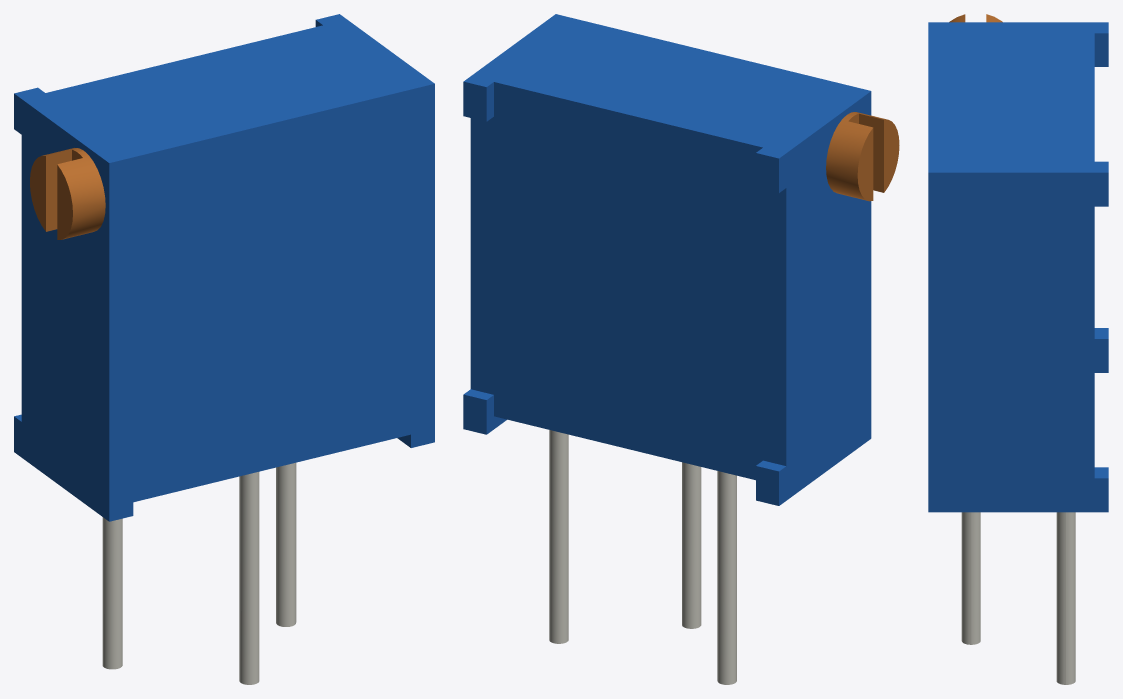
The model's file is kc-potentiometer_bourns_3296z_horizontal.glb.
3 views of the same model, side by side, from view 1: azimuth 30°, elevation 25°; view 2: azimuth 150°, elevation 25°; view 3: azimuth 270°, elevation 25° (orthographic). The views are drawn at different scales.
Visible parts, largest first — view 1: 0_0.16666666666666666_0.5_0, 0.6666666666666666_0.6666666666666666_0.5833333333333334_0.8, 0.5_0.16666666666666666_0_0; view 2: 0_0.16666666666666666_0.5_0, 0.6666666666666666_0.6666666666666666_0.5833333333333334_0.8, 0.5_0.16666666666666666_0_0; view 3: 0_0.16666666666666666_0.5_0, 0.6666666666666666_0.6666666666666666_0.5833333333333334_0.8.
Boxes of the visible parts, x1=… form: 0_0.16666666666666666_0.5_0: x1=14, y1=14, x2=434, y2=521; 0.6666666666666666_0.6666666666666666_0.5833333333333334_0.8: x1=102, y1=462, x2=296, y2=684; 0.5_0.16666666666666666_0_0: x1=30, y1=148, x2=105, y2=239; 0_0.16666666666666666_0.5_0: x1=463, y1=14, x2=871, y2=505; 0.6666666666666666_0.6666666666666666_0.5833333333333334_0.8: x1=549, y1=430, x2=736, y2=684; 0.5_0.16666666666666666_0_0: x1=826, y1=112, x2=899, y2=201; 0_0.16666666666666666_0.5_0: x1=928, y1=22, x2=1108, y2=512; 0.6666666666666666_0.6666666666666666_0.5833333333333334_0.8: x1=961, y1=512, x2=1075, y2=684.
Size of the model in its own units: 1.05 by 1.61 by 0.4829.
